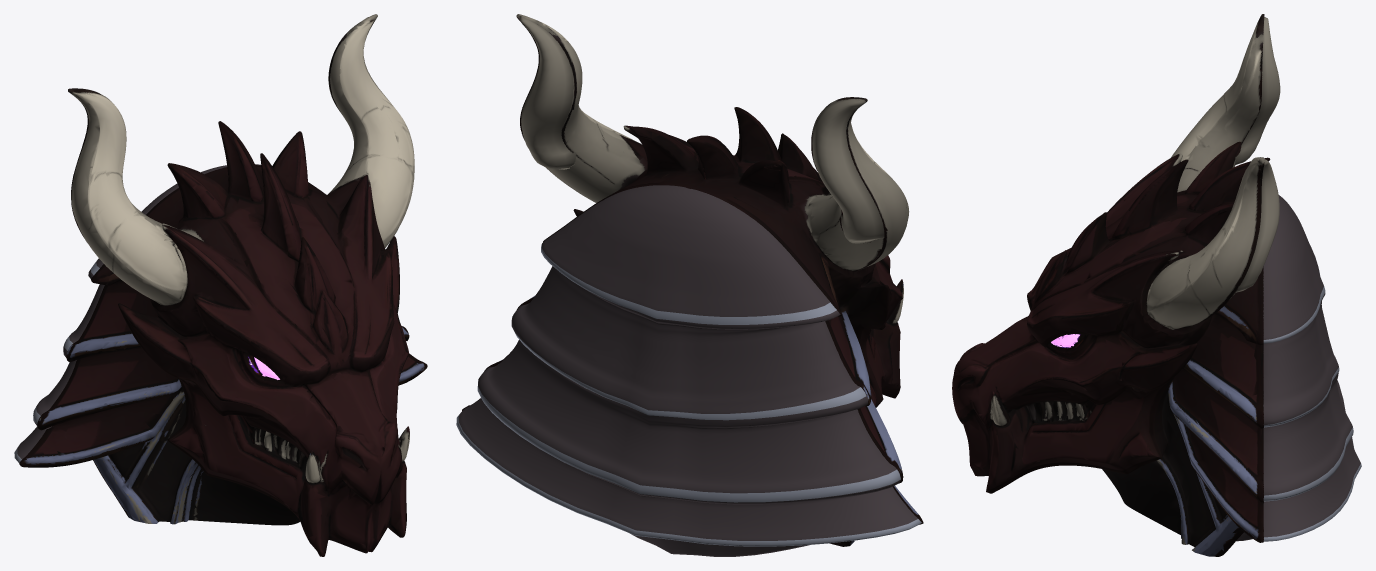
File: h_dragonknight_dark_d.glb
The picture shows the model from 3 angles, left to right: view 1: azimuth 30°, elevation 25°; view 2: azimuth 150°, elevation 25°; view 3: azimuth 270°, elevation 25°; orthographic projection. The views are drawn at different scales.
Visible parts, largest first — view 1: DragonKnightHelm; view 2: DragonKnightHelm; view 3: DragonKnightHelm.
Boxes of the visible parts, <box> form: DragonKnightHelm: <box>14,14,427,556</box>; DragonKnightHelm: <box>456,14,923,556</box>; DragonKnightHelm: <box>952,14,1361,556</box>.
Size of the model in its own units: 0.5266 by 0.5267 by 0.4667.
4 materials, 1 textured.
